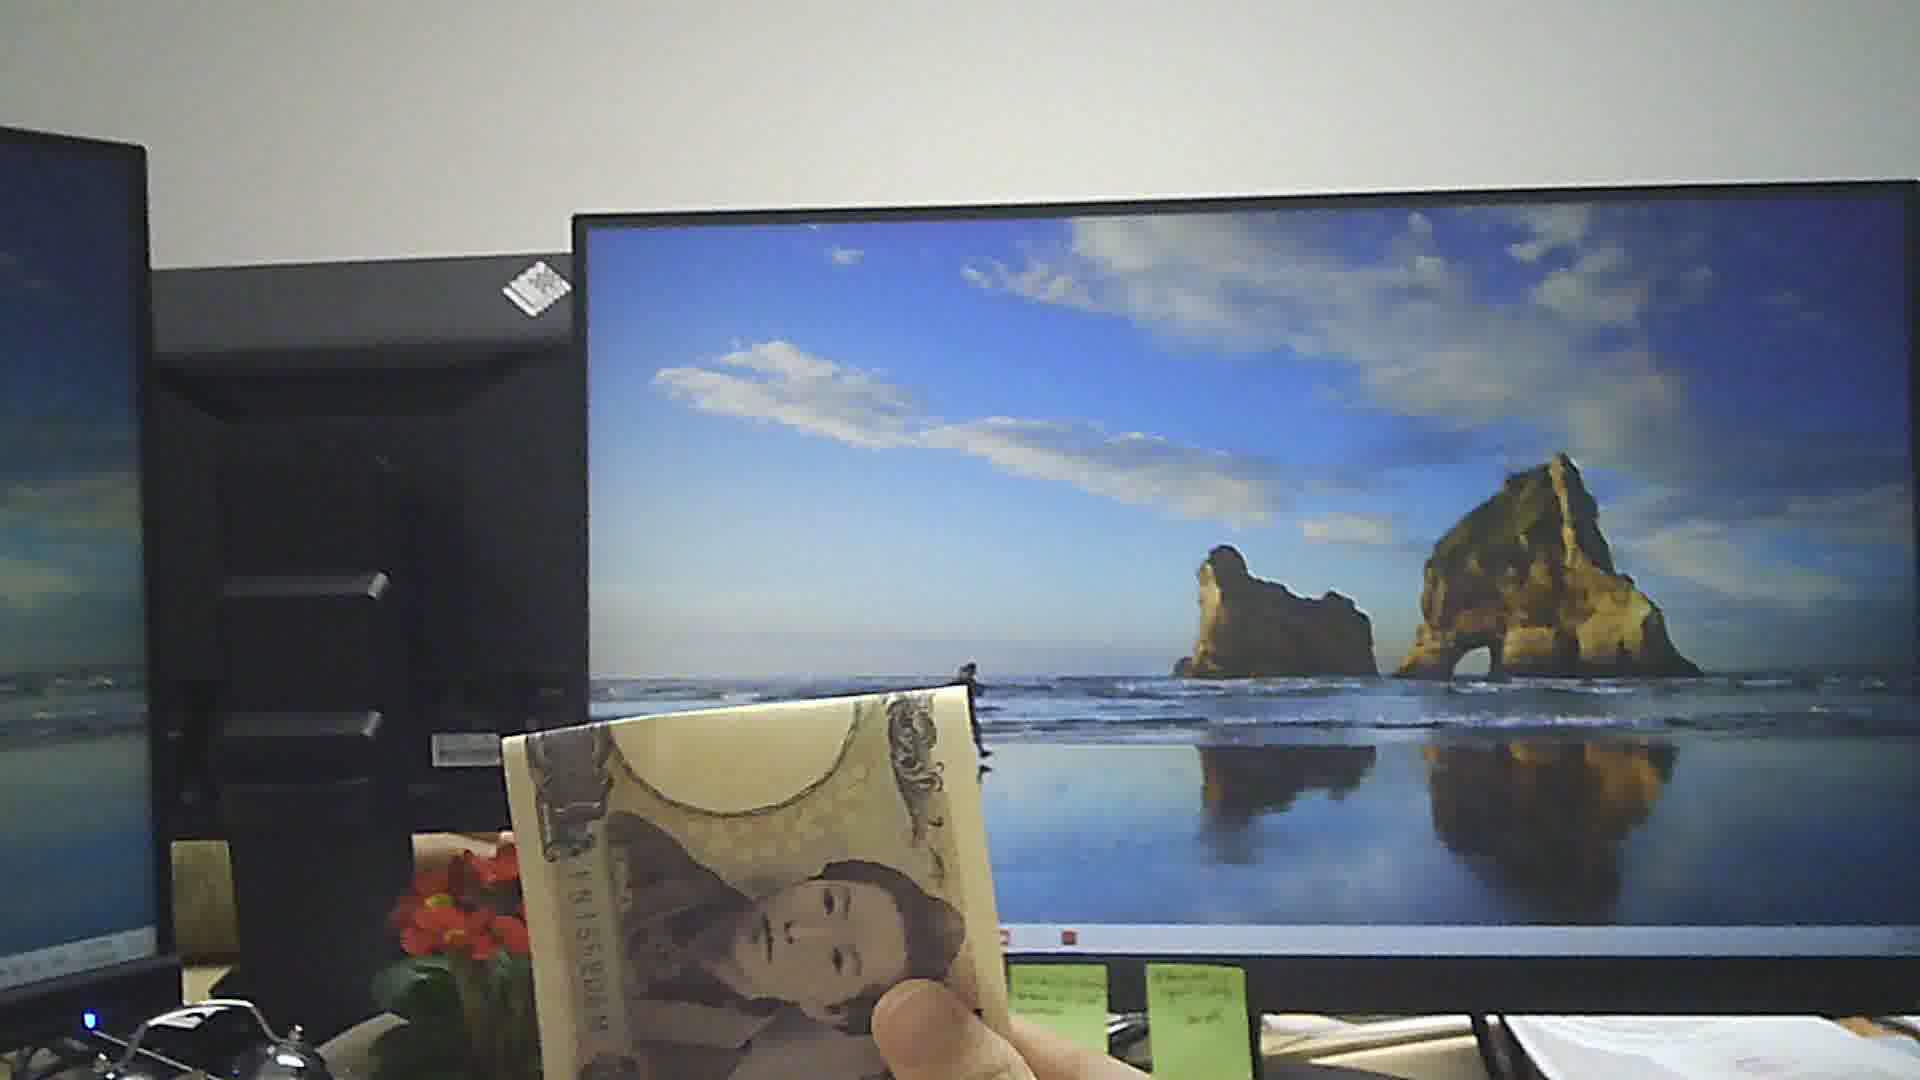5,000 Yen: (500, 687, 1006, 1077)
